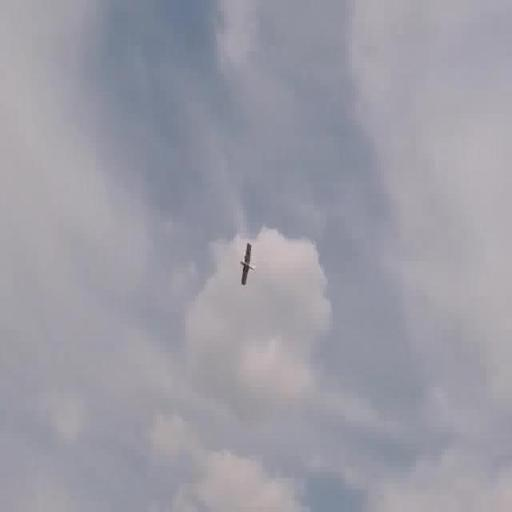uav: (234, 238, 256, 292)
